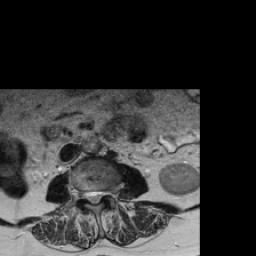CCS_normal: (90, 184, 96, 209)
LFS_stenosis: (102, 183, 109, 203)
LLS_normal: (96, 183, 102, 206)
RFS_normal: (77, 182, 84, 204)
RLS_normal: (84, 184, 90, 207)
